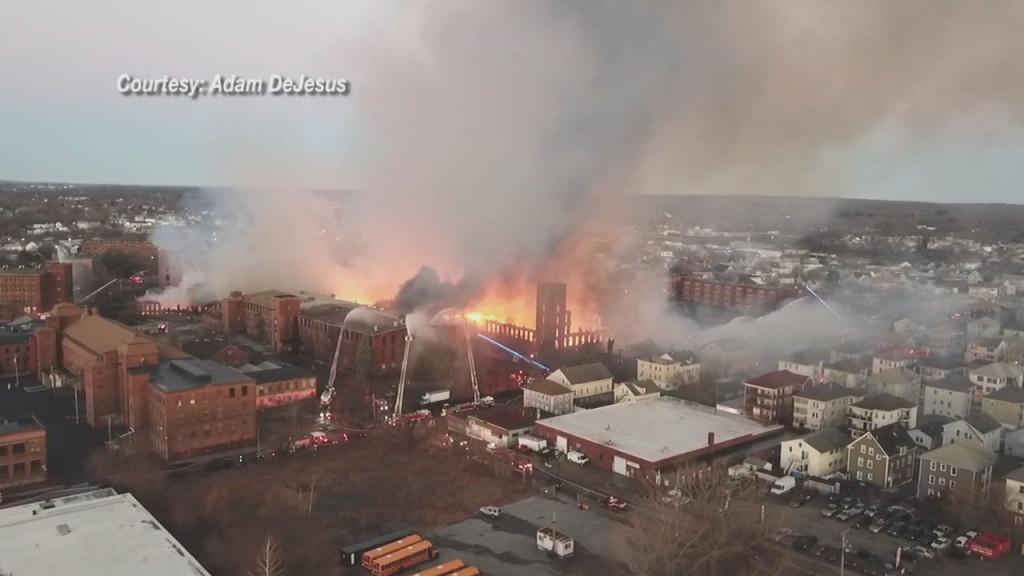Fire: (446, 284, 534, 333), (563, 301, 593, 346), (336, 292, 379, 307)
